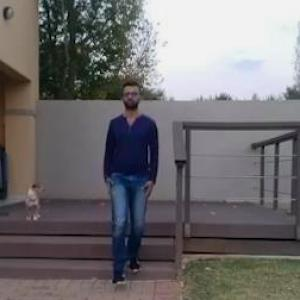follow: (111, 78, 162, 284)
